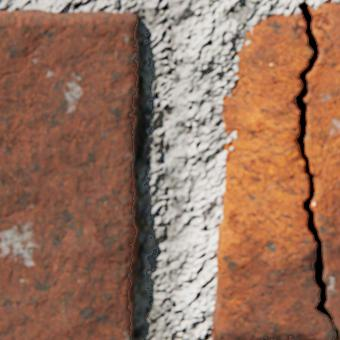brick: (0, 10, 139, 339)
broken_brick: (212, 13, 336, 339), (305, 2, 339, 328)
crack: (296, 1, 339, 337)
